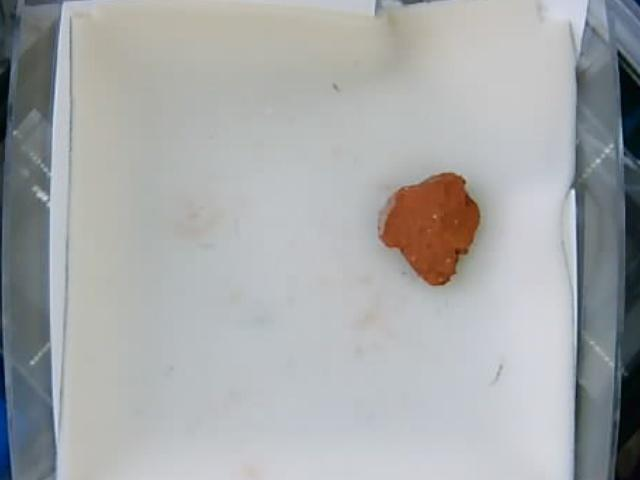Brisk: (379, 171, 482, 284)
